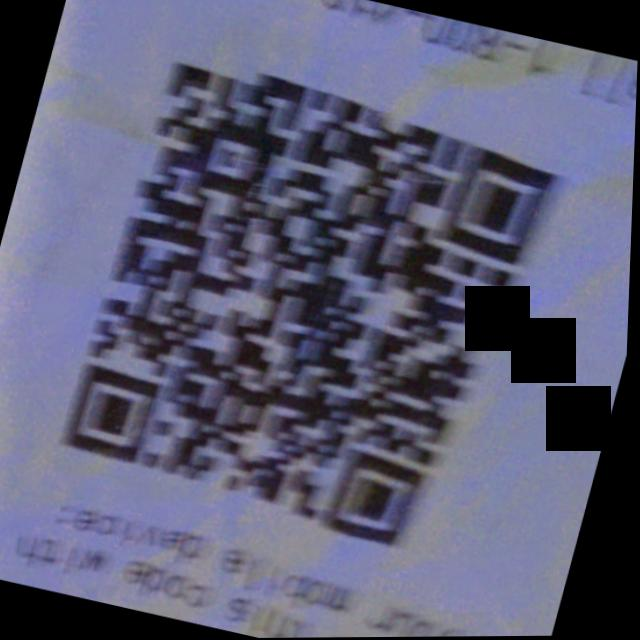QR_CODE: (29, 34, 591, 598)
